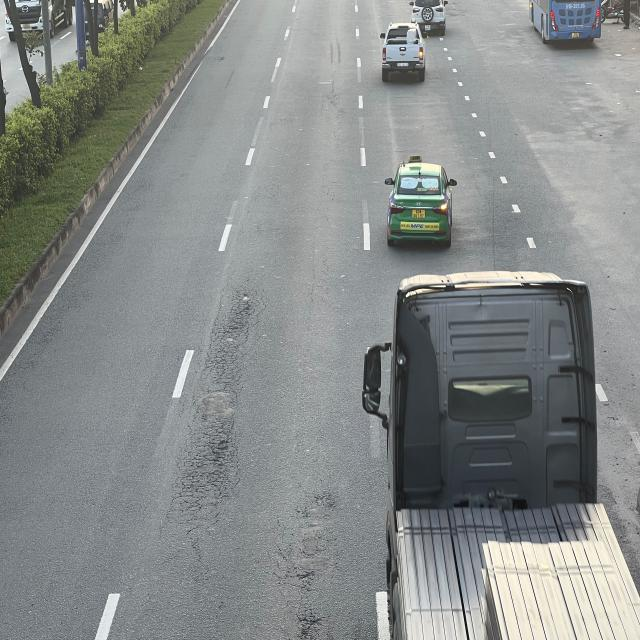car: (384, 160, 456, 247), (380, 24, 429, 81), (409, 0, 448, 31)
coach: (529, 0, 604, 44)
container: (365, 270, 640, 640)
